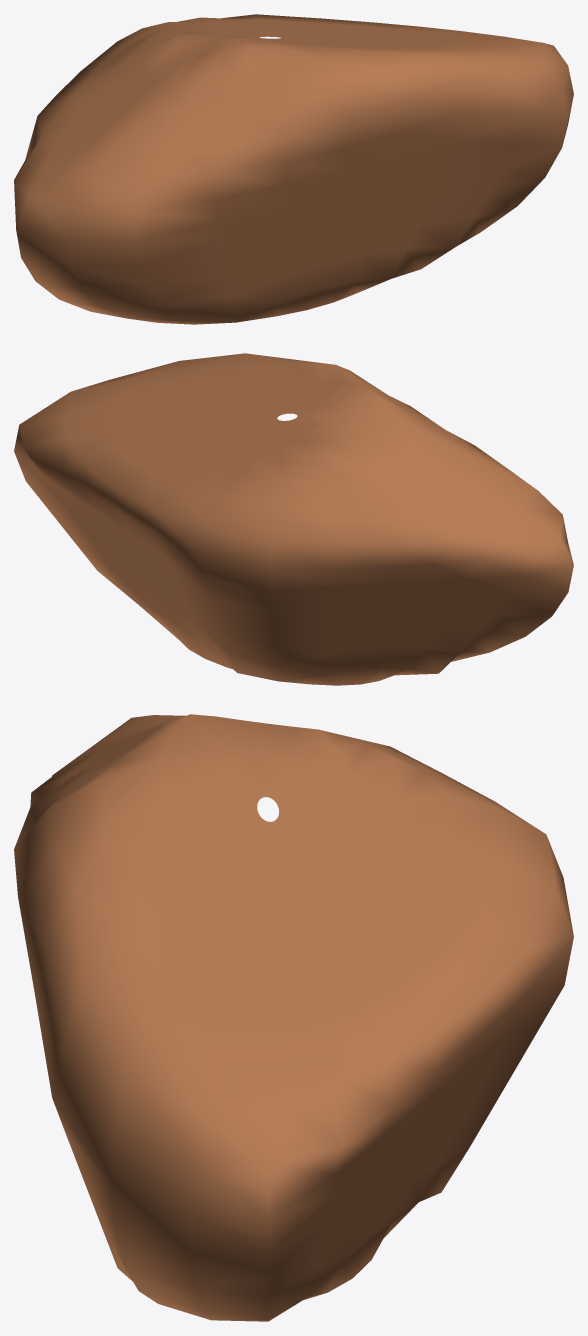
File: boulder2.glb
The picture shows the model from 3 angles, top to bottom: view 1: azimuth 30°, elevation 25°; view 2: azimuth 150°, elevation 25°; view 3: azimuth 270°, elevation 25°; orthographic projection. The views are drawn at different scales.
Parts seen in each view (by area): view 1: Boulder; view 2: Boulder; view 3: Boulder.
Boxes of the visible parts, <box> form: Boulder: <box>14,14,573,324</box>; Boulder: <box>14,353,573,685</box>; Boulder: <box>14,714,573,1321</box>.
Size of the model in its own units: 2.95 by 1.4 by 1.53.
